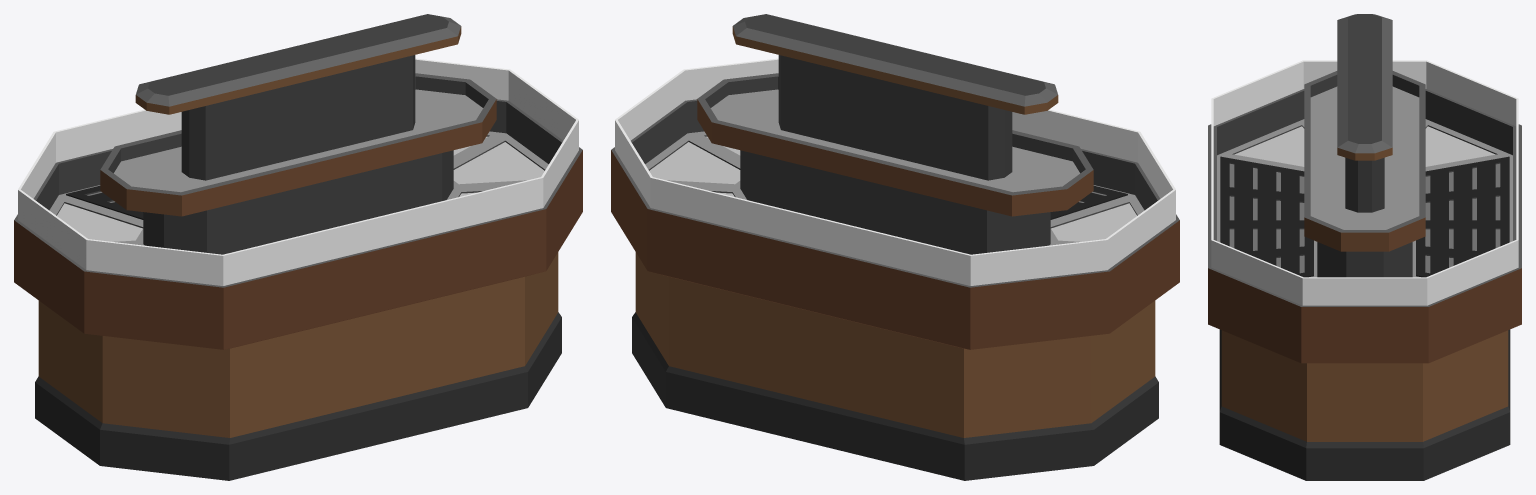
The model's file is Wide Hexigonal Open Fridge.fbx.
3 renders of one model, left to right at view 1: azimuth 30°, elevation 25°; view 2: azimuth 150°, elevation 25°; view 3: azimuth 270°, elevation 25°, orthographic. The views are drawn at different scales.
Parts seen in each view (by area): view 1: Wide Hexigonal Open Fridge/Cooler; view 2: Wide Hexigonal Open Fridge/Cooler; view 3: Wide Hexigonal Open Fridge/Cooler.
Part boxes in pixels (x1,y1,x2,y2): Wide Hexigonal Open Fridge/Cooler: [14, 14, 582, 480]; Wide Hexigonal Open Fridge/Cooler: [611, 14, 1179, 480]; Wide Hexigonal Open Fridge/Cooler: [1208, 14, 1521, 480].
Size of the model in its own units: 236 by 149 by 142.
3 materials, 2 textured.
